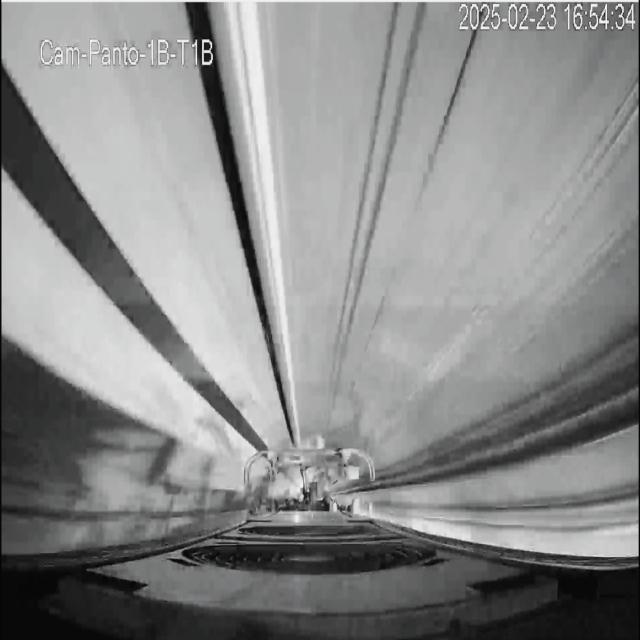Camera Stamp: (36, 30, 220, 70)
Date Stamp: (462, 3, 635, 33)
